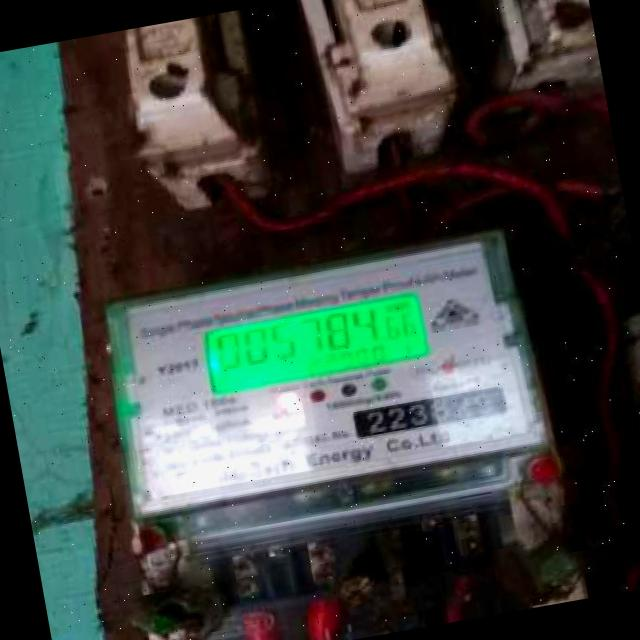LCD: (196, 282, 442, 409)
